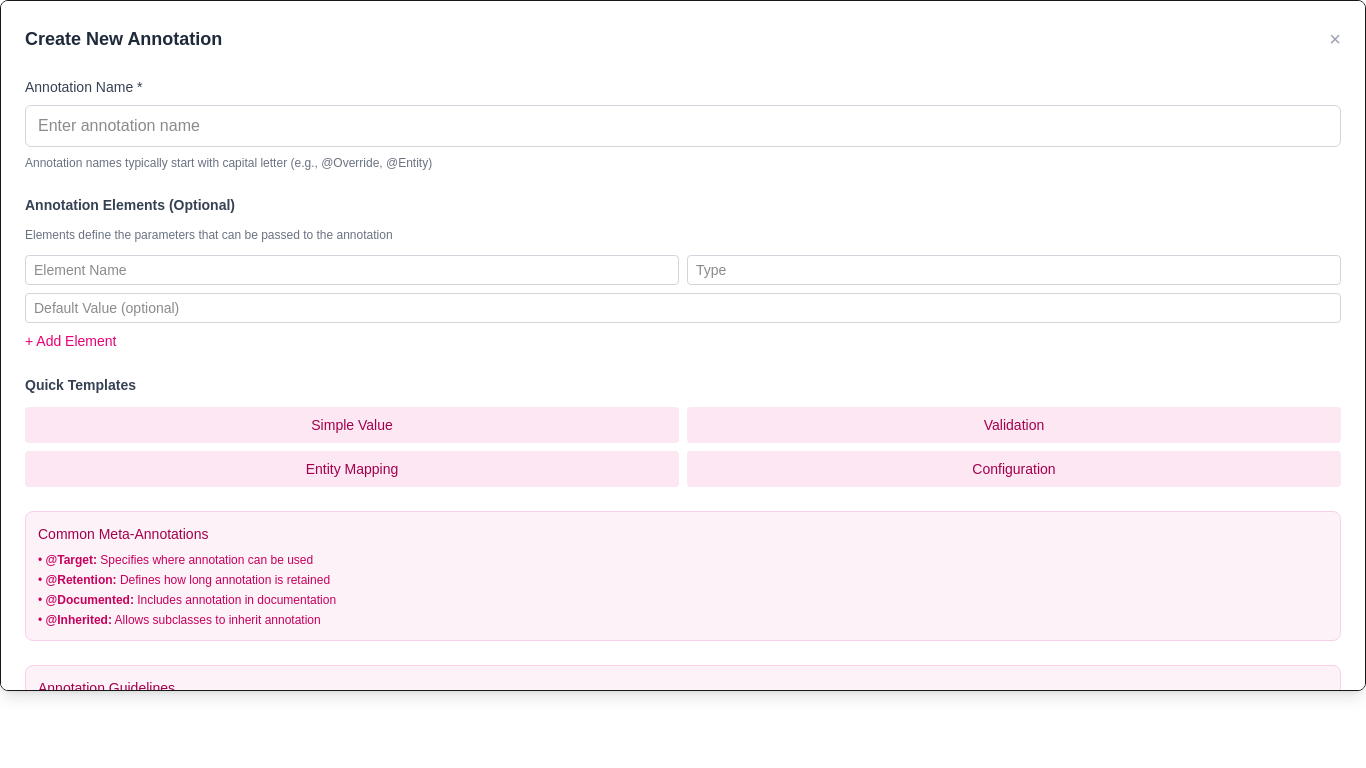
Test: CreateAnnotation component › can edit an existing element
The width and height of the screenshot is (1366, 768).
Step 1. Type "timeout" into the field with placeholder "Element Name" → (352, 270), box x1=25 y1=255 x2=679 y2=285
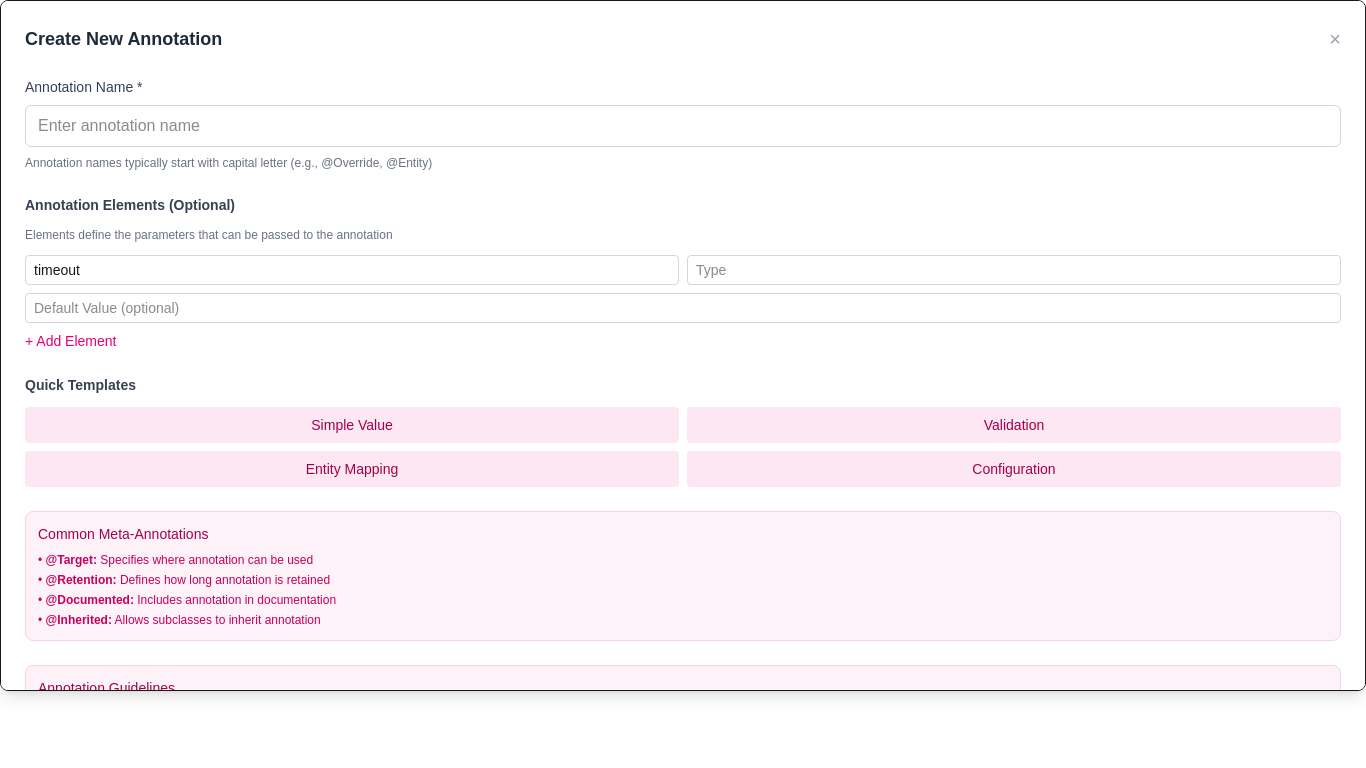
Step 2. Type "long" into the field with placeholder "Type" → (1014, 270), box x1=687 y1=255 x2=1341 y2=285
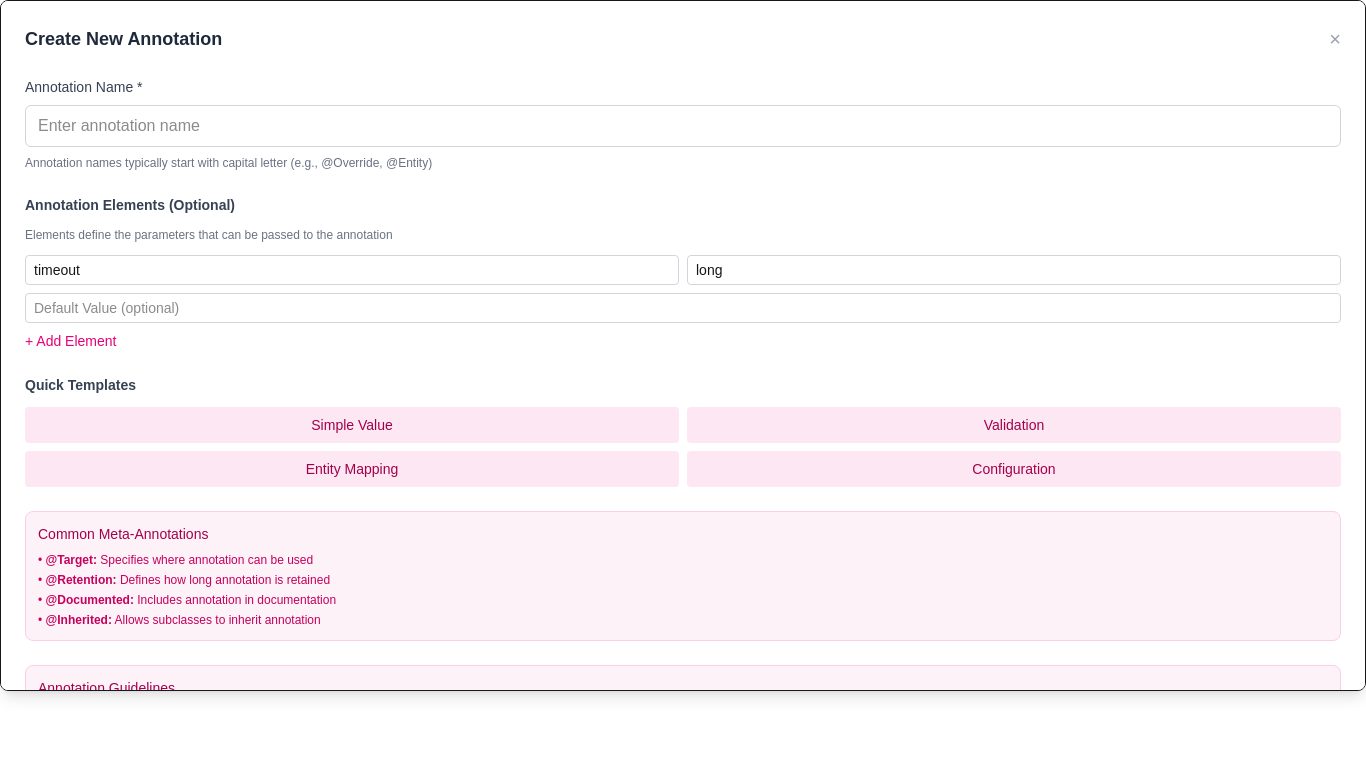
Step 3. Click the button "+ Add Element" → (71, 341), box x1=25 y1=331 x2=116 y2=351
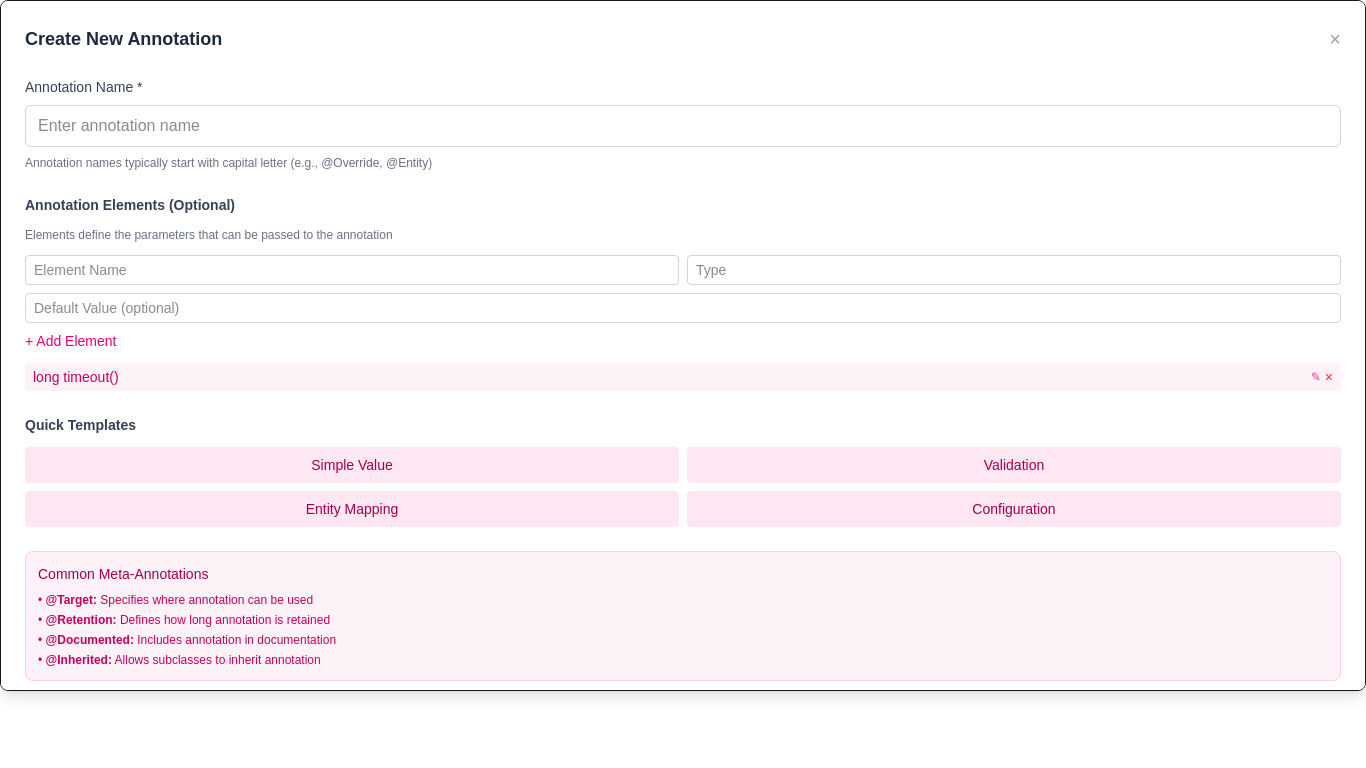
Step 4. Click the button named "Edit element" → (1316, 377), box x1=1311 y1=367 x2=1321 y2=387
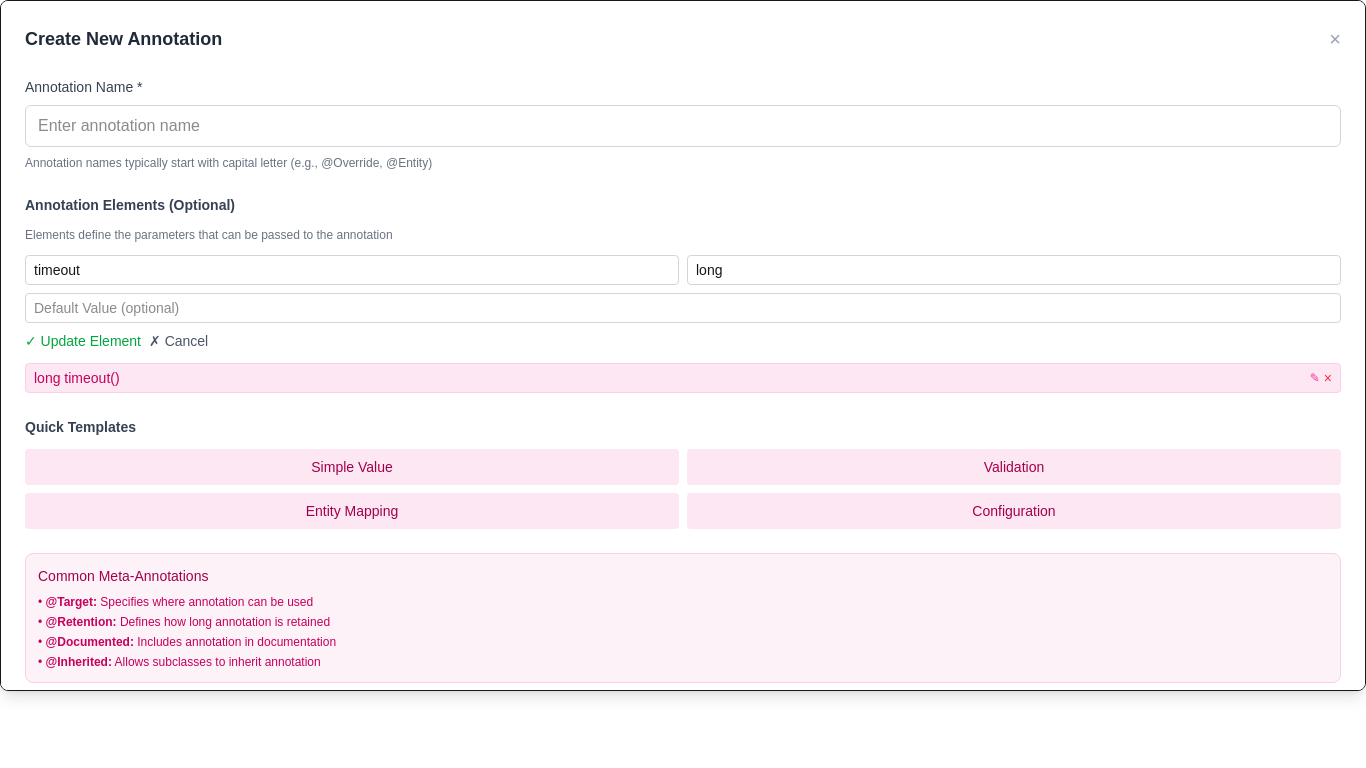
Step 5. Replace the text in the 1st field with placeholder "Element Name" with "newTimeout" → (352, 270), box x1=25 y1=255 x2=679 y2=285
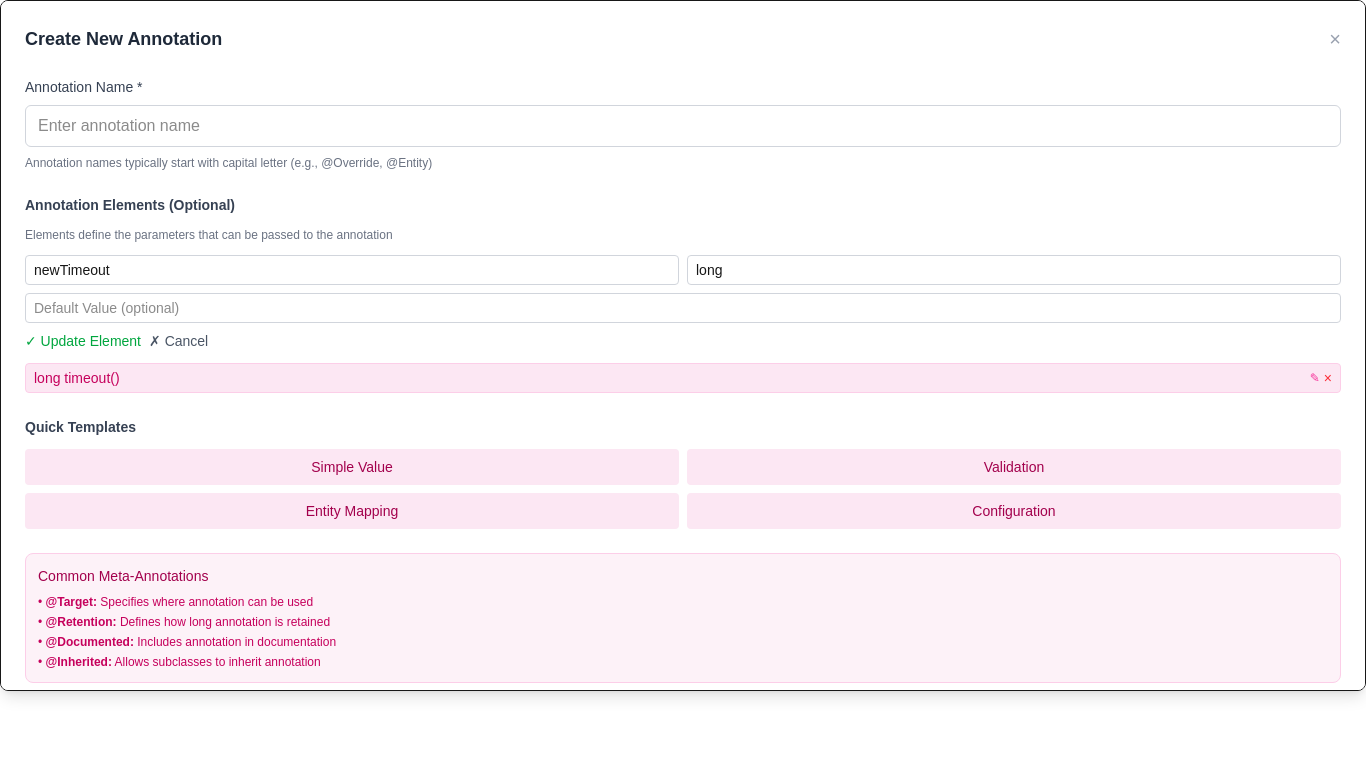
Step 6. Click the button "✓ Update Element" → (83, 341), box x1=25 y1=331 x2=141 y2=351
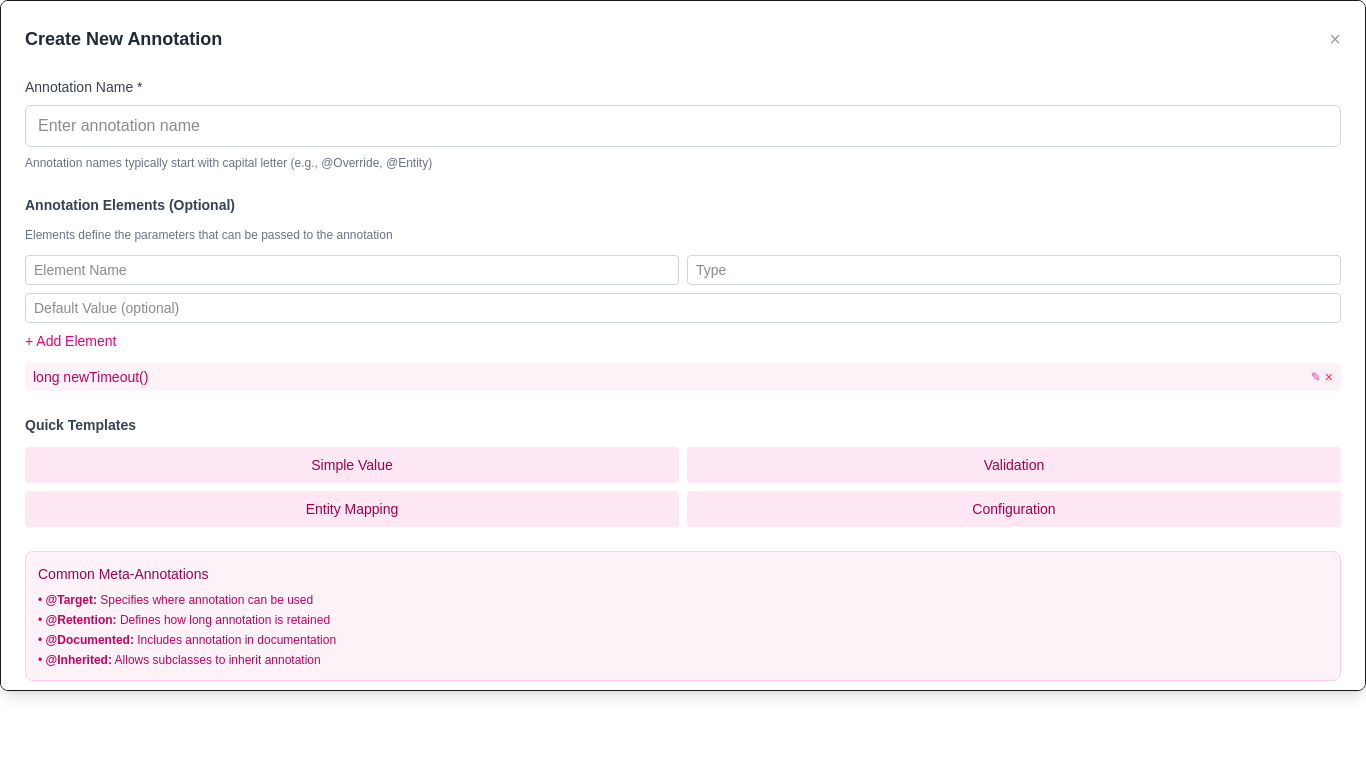
Expected: the text "long newTimeout()" is shown, x1=33 y1=369 x2=148 y2=385
Expected: the text "long timeout()" is gone
